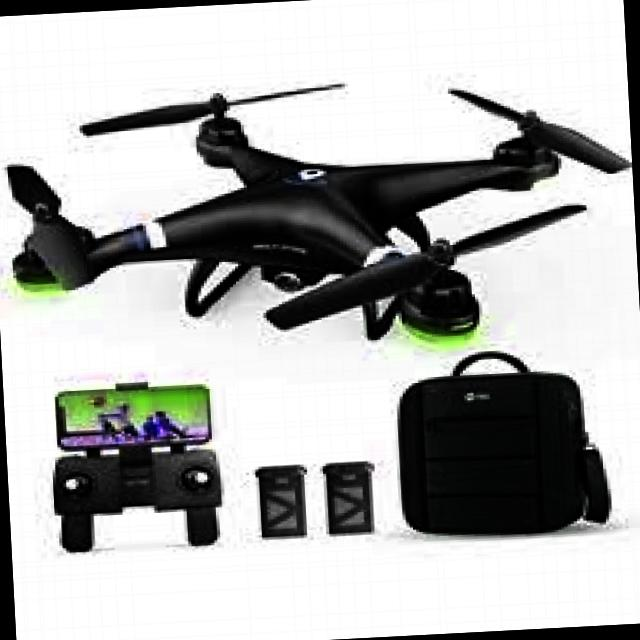drone: (0, 47, 640, 360)
